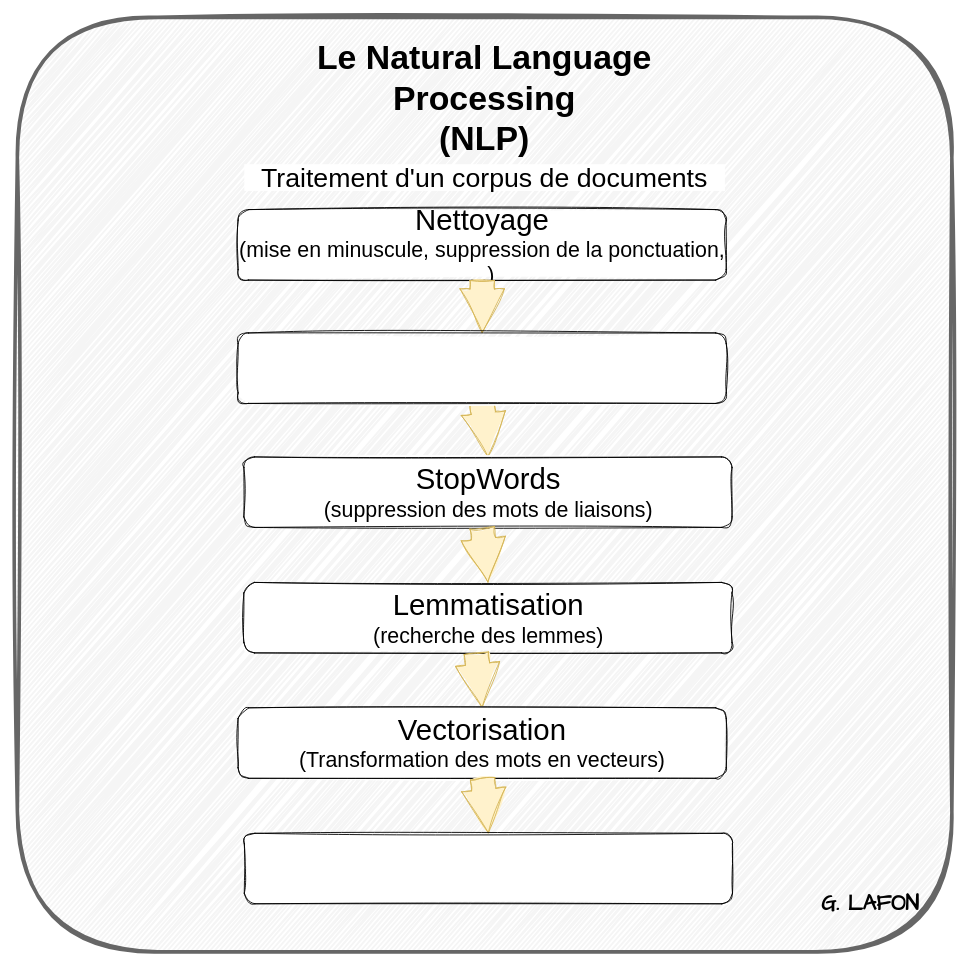
The diagram is 968 pixels wide and 968 high, and some of its shapes have lost their labels. The shapes that lost their labels are listed below. From the top down, each one's centre as x and y in pixels, then its label:
At pixel 481 367: "Tokenisation (segmentation des mots)".
At pixel 487 868: "Entrainement d'un modèle (Groupement par analyse sémantique)".
